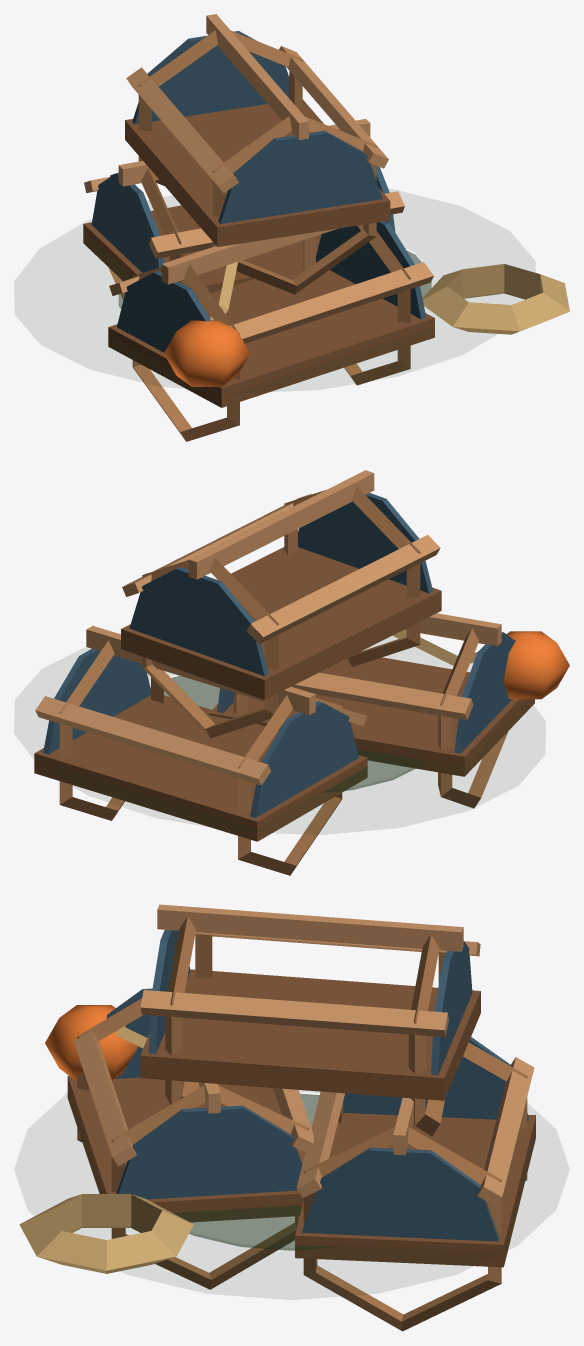
Rendered from crab_pots.glb.
The picture shows the model from 3 angles, top to bottom: view 1: azimuth 30°, elevation 25°; view 2: azimuth 150°, elevation 25°; view 3: azimuth 270°, elevation 25°; orthographic projection. The views are drawn at different scales.
Parts seen in each view (by area): view 1: crab_pots; view 2: crab_pots; view 3: crab_pots.
Boxes of the visible parts, box(x1,y1,x2,y2) form: crab_pots: box(83, 14, 569, 441); crab_pots: box(34, 470, 569, 875); crab_pots: box(19, 904, 535, 1331).
Size of the model in its own units: 1 by 0.6125 by 0.9.
